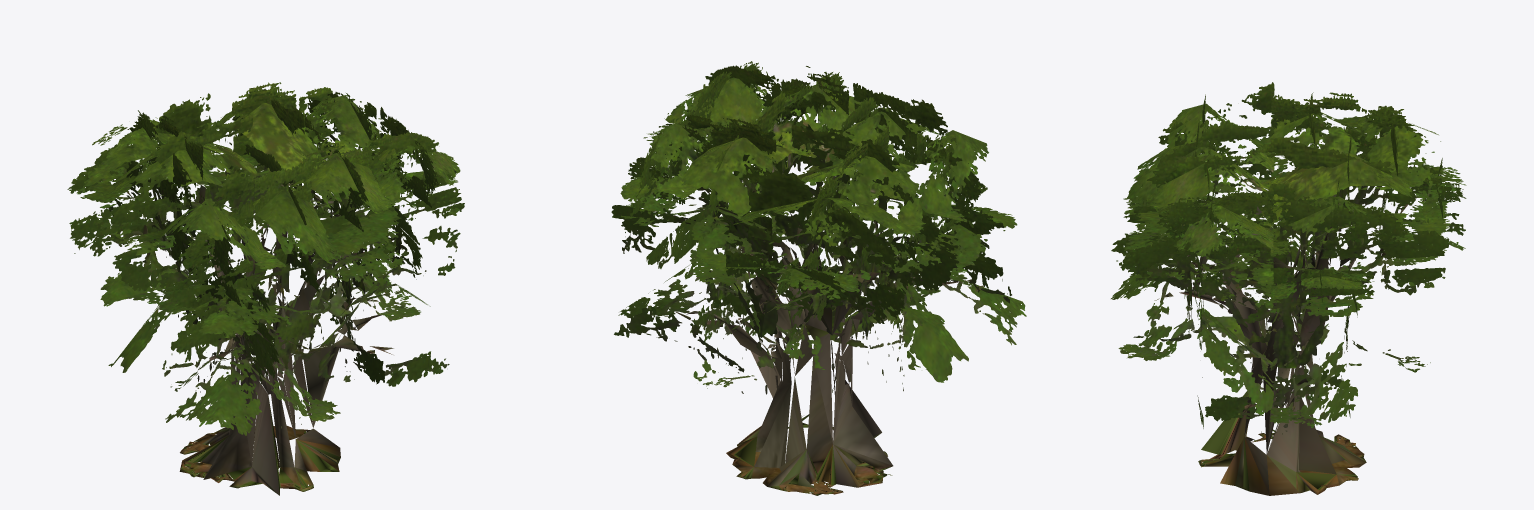
Rendered from tree-0208-far.glb.
The picture shows the model from 3 angles, left to right: view 1: azimuth 30°, elevation 25°; view 2: azimuth 150°, elevation 25°; view 3: azimuth 270°, elevation 25°; orthographic projection. The views are drawn at different scales.
Parts seen in each view (by area): view 1: Foliage, Wood; view 2: Foliage, Wood; view 3: Foliage, Wood.
Part boxes in pixels (x1=…): Foliage: x1=67, y1=82, x2=464, y2=435; Wood: x1=127, y1=185, x2=393, y2=495; Foliage: x1=611, y1=61, x2=1026, y2=394; Wood: x1=664, y1=176, x2=983, y2=495; Foliage: x1=1111, y1=82, x2=1466, y2=434; Wood: x1=1154, y1=188, x2=1417, y2=495.
Bounding box in the file's own units: 12.5 × 13.22 × 13.3.
Materials: 2 (2 with a texture image).
